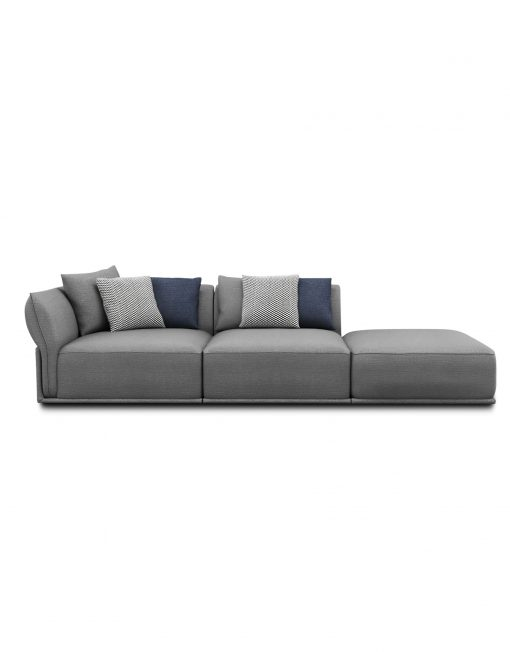chairs: (11, 263, 499, 414)
